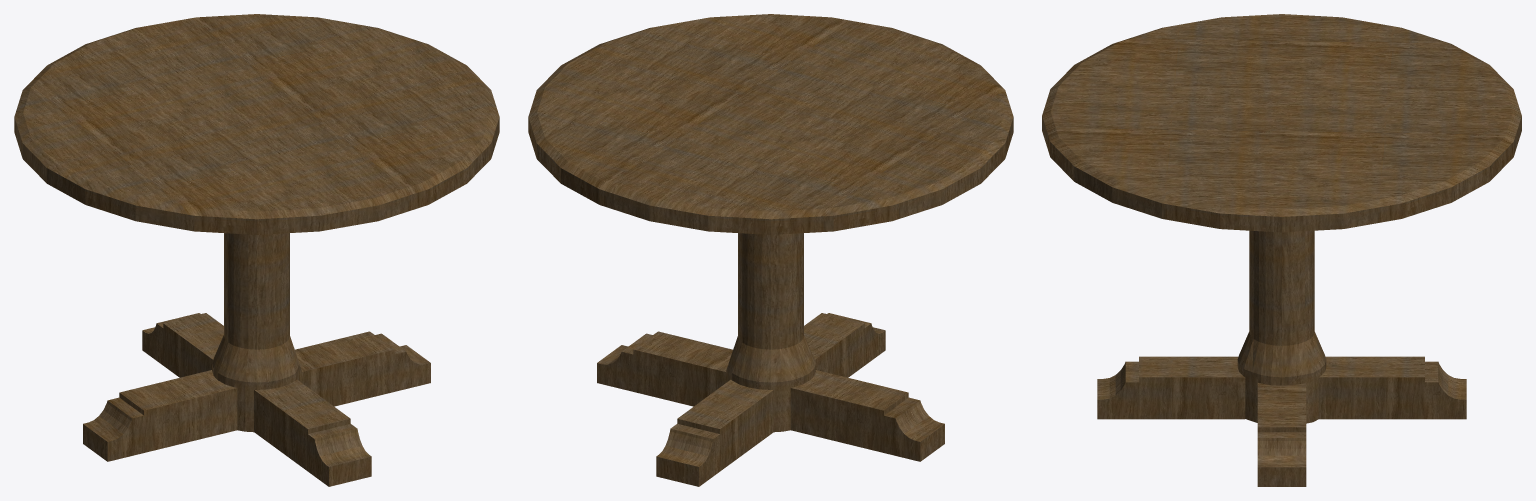
File: P_Table.fbx
The picture shows the model from 3 angles, left to right: view 1: azimuth 30°, elevation 25°; view 2: azimuth 150°, elevation 25°; view 3: azimuth 270°, elevation 25°; orthographic projection.
Parts seen in each view (by area): view 1: Empty_Mesh; view 2: Empty_Mesh; view 3: Empty_Mesh.
Part boxes in pixels (left/top/right/bottom): Empty_Mesh: left=14, top=14, right=499, bottom=486; Empty_Mesh: left=528, top=14, right=1013, bottom=486; Empty_Mesh: left=1042, top=14, right=1521, bottom=486.
Bounding box in the file's own units: 1.12 × 0.7656 × 1.12.
